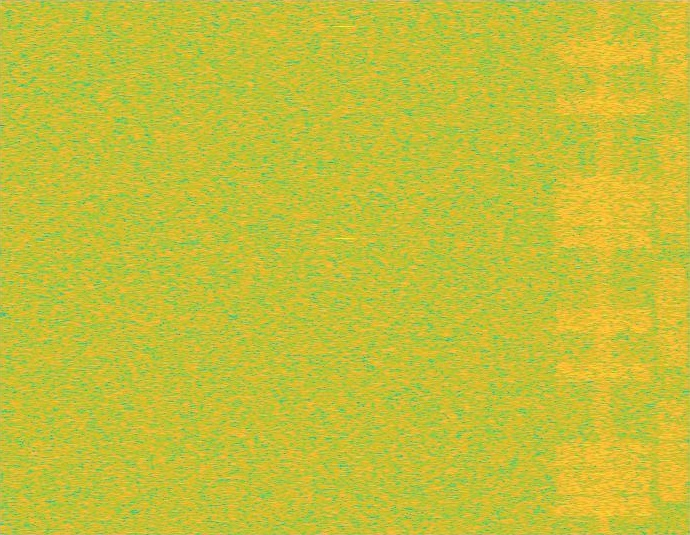5G: (656, 0, 689, 534)
DSSS: (592, 0, 615, 534)
LTE: (552, 0, 656, 534)
Radar: (337, 0, 351, 534)
